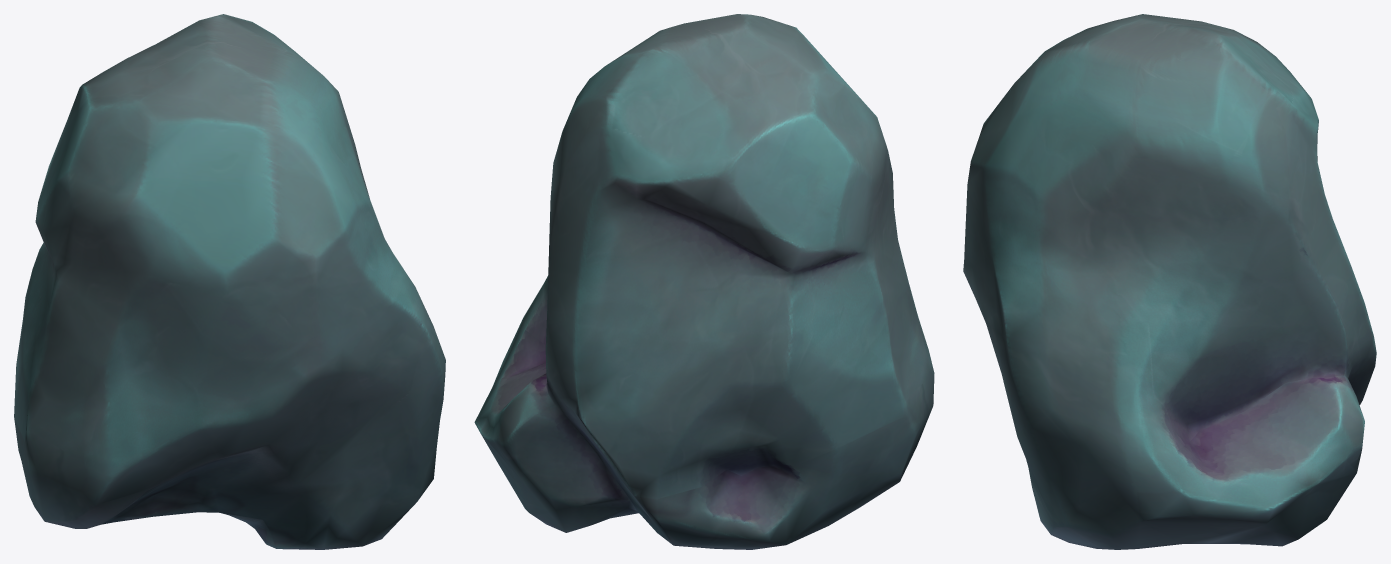
File: rock4.glb
3 views of the same model, side by side, from view 1: azimuth 30°, elevation 25°; view 2: azimuth 150°, elevation 25°; view 3: azimuth 270°, elevation 25° (orthographic). The views are drawn at different scales.
Parts seen in each view (by area): view 1: rock4; view 2: rock4; view 3: rock4.
Boxes of the visible parts, bbox=[...] form: rock4: bbox=[14, 14, 445, 549]; rock4: bbox=[474, 14, 934, 549]; rock4: bbox=[963, 14, 1376, 549].
Bounding box in the file's own units: 2.33 × 2.66 × 2.14.
1 material, 1 textured.
